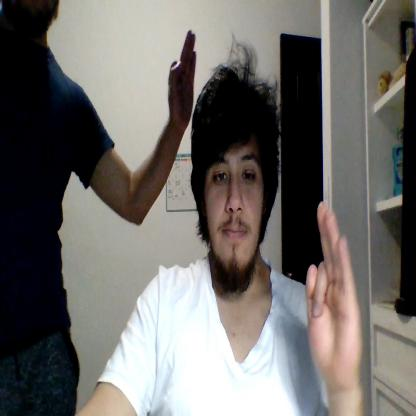F: (306, 200, 362, 382), (168, 30, 197, 131)
